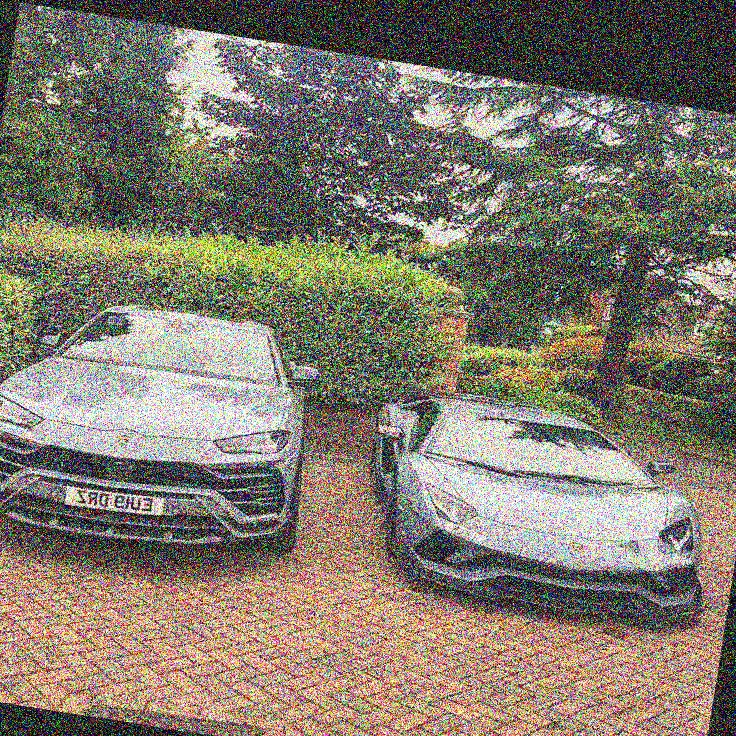car: (329, 321, 736, 684), (0, 255, 340, 637)
